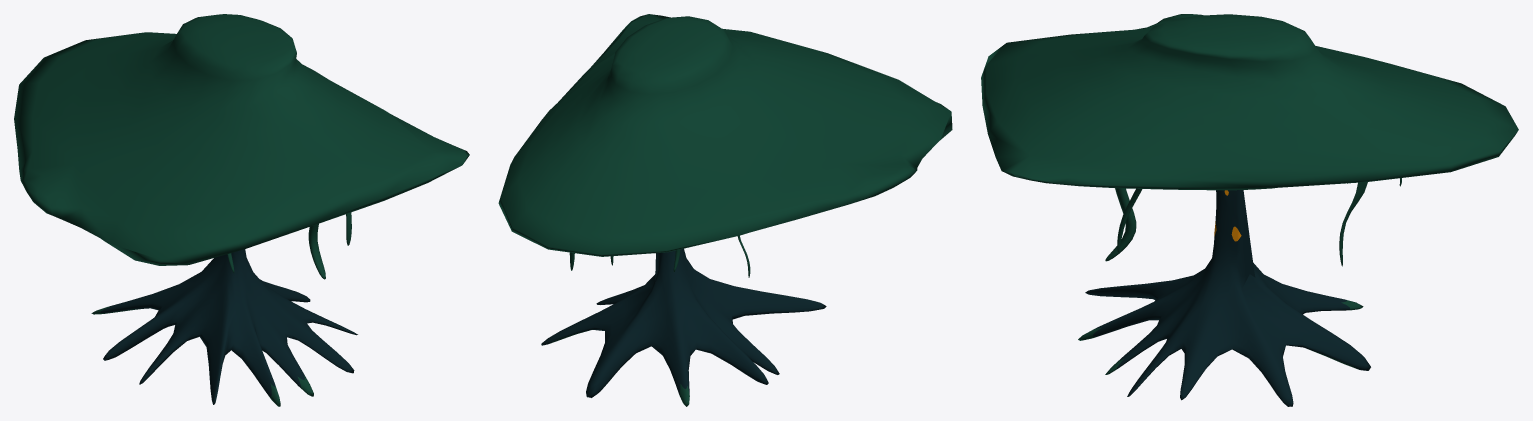
File: MushroomTree.fbx
The picture shows the model from 3 angles, left to right: view 1: azimuth 30°, elevation 25°; view 2: azimuth 150°, elevation 25°; view 3: azimuth 270°, elevation 25°; orthographic projection. The views are drawn at different scales.
Parts seen in each view (by area): view 1: Cube; view 2: Cube; view 3: Cube.
Part boxes in pixels (<box>): Cube: <box>14,14,469,406</box>; Cube: <box>498,14,952,406</box>; Cube: <box>981,14,1518,406</box>.
Bounding box in the file's own units: 1178 × 1019 × 1467.
